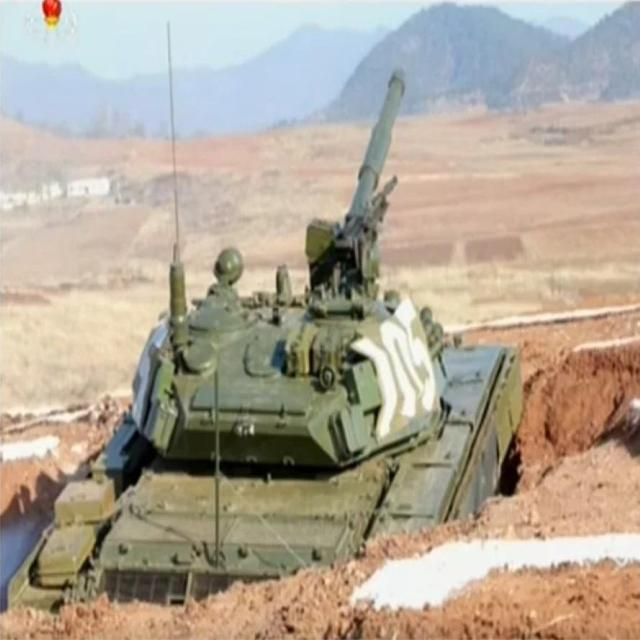north tank: (33, 53, 545, 640)
